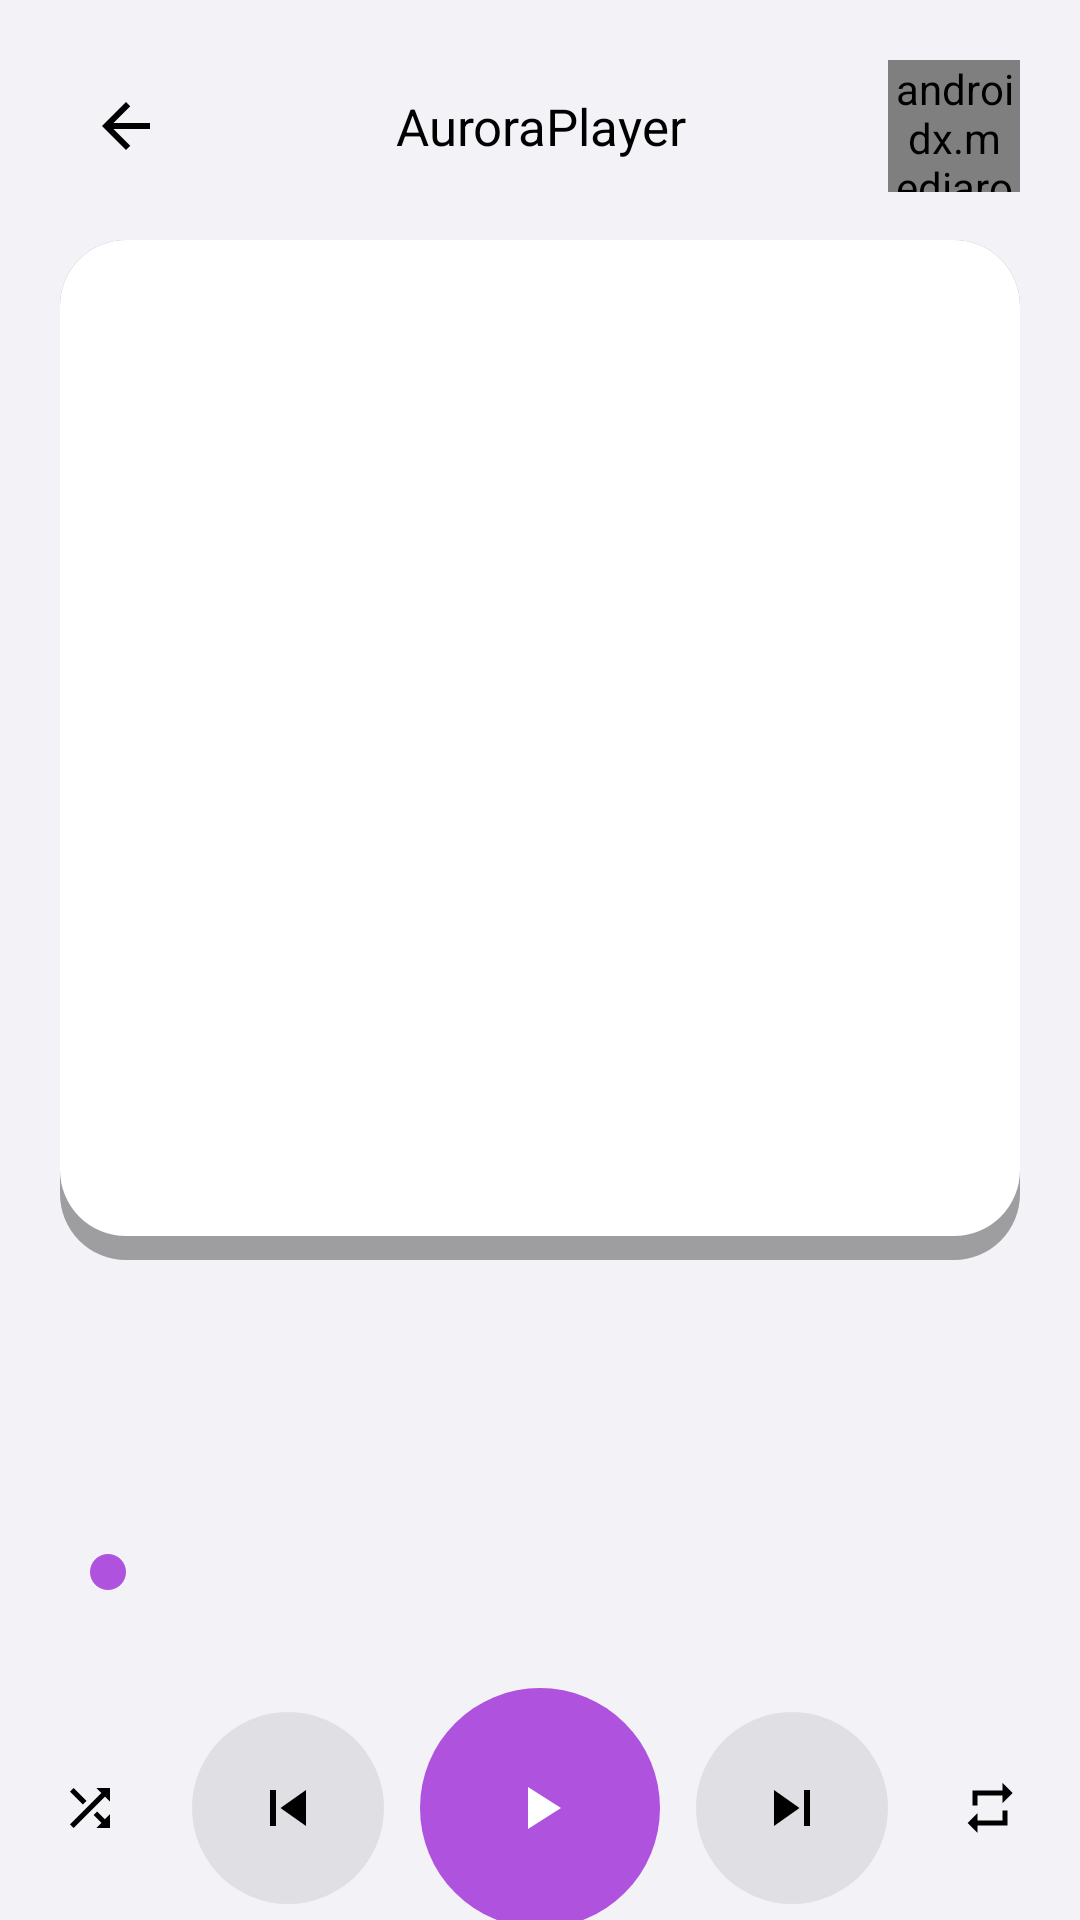

Locate icon controls on the screen. Image size 1080w x 1920h, boxes as (x1=x1, y1=y1, x2=x2, y2=y2).
Go back: (x1=102, y1=102, x2=150, y2=150)
Play or pause: (x1=420, y1=1688, x2=660, y2=1920)
Skip to next song: (x1=774, y1=1790, x2=810, y2=1826)
Skip to previous song: (x1=270, y1=1790, x2=306, y2=1826)
